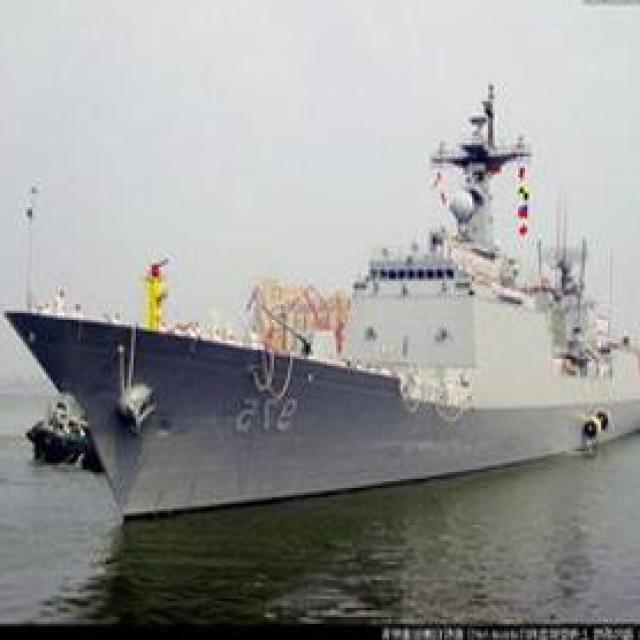navalvessels: (16, 92, 640, 516)
